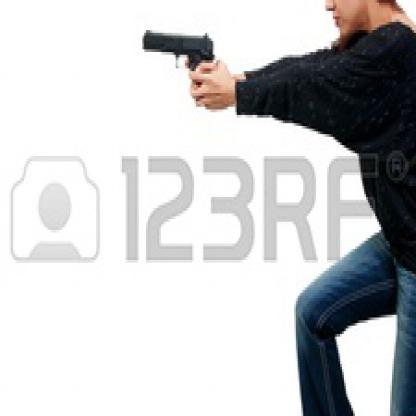gun: (138, 22, 224, 107)
